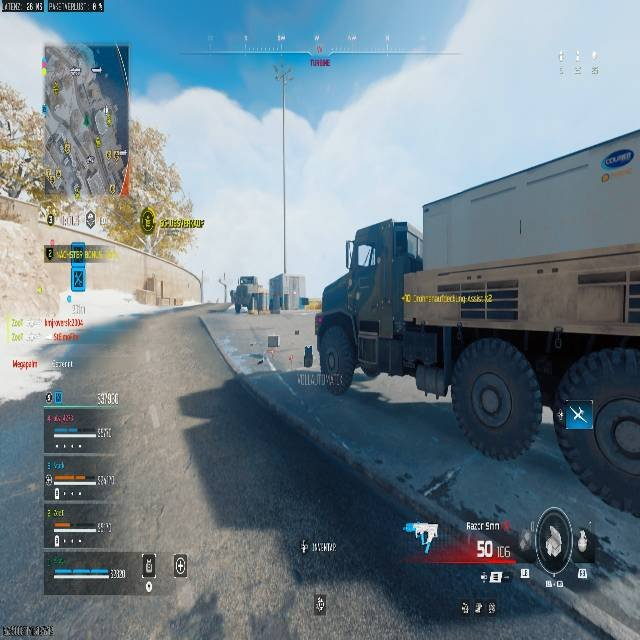player: (303, 344, 313, 368)
